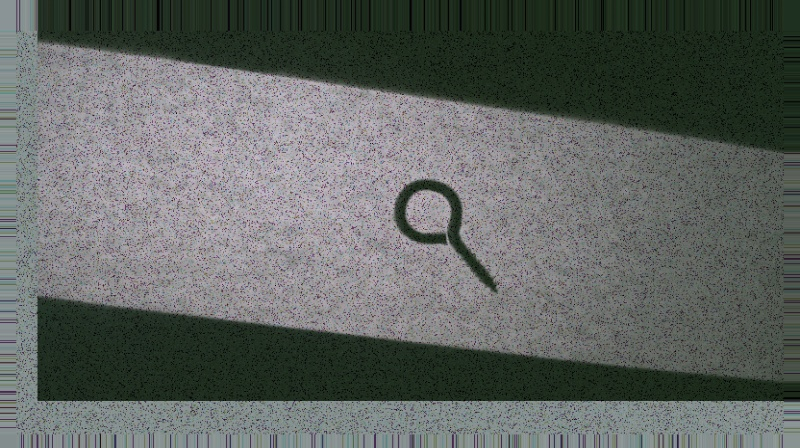O001: (389, 175, 500, 297)
